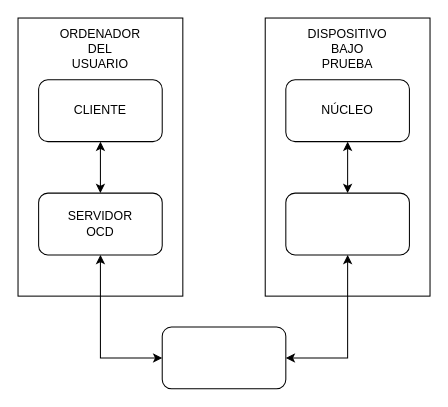
Some shapes in this 448 by 407 pixel diagram are drawn without their labels. Here are the shapes that lost their labels. From the top down, the box of each, then its label:
(285, 192, 409, 255): DEBUG ACCESS PORT
(161, 326, 286, 389): SONDA
